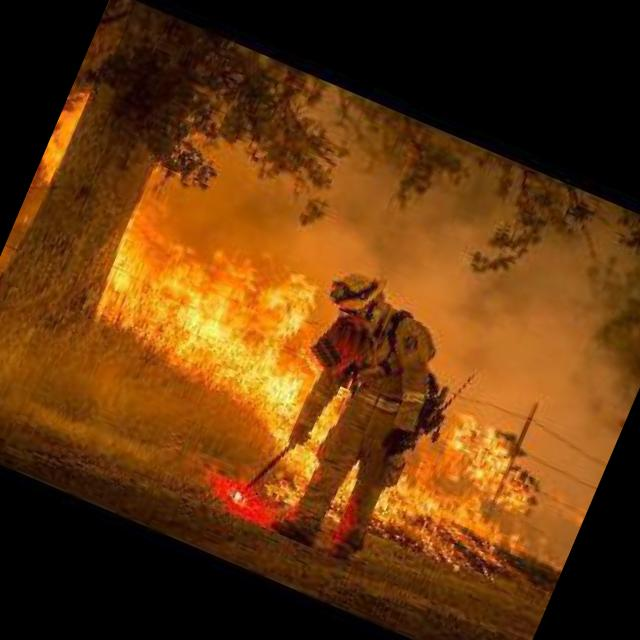fire: (0, 71, 618, 599)
